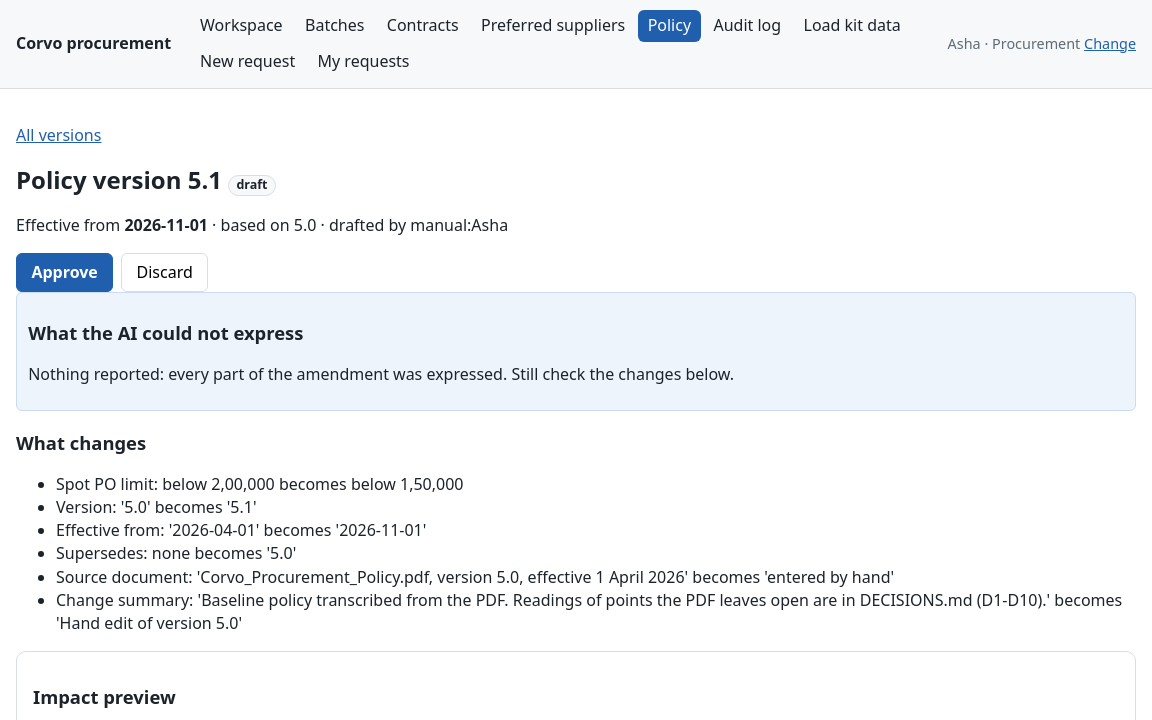
it: policy screens (B7) › approve asks for confirmation and Escape cancels it
Click the button "Approve": (65, 273) top-left (16, 253), bottom-right (113, 292)
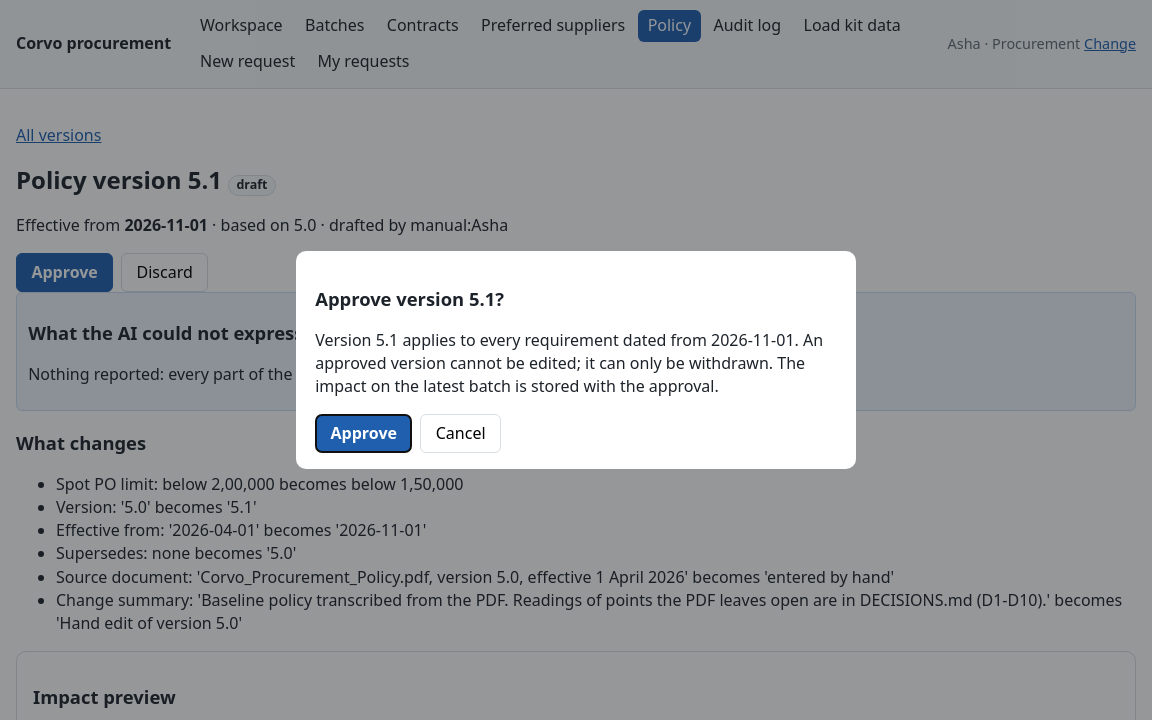
Press Escape
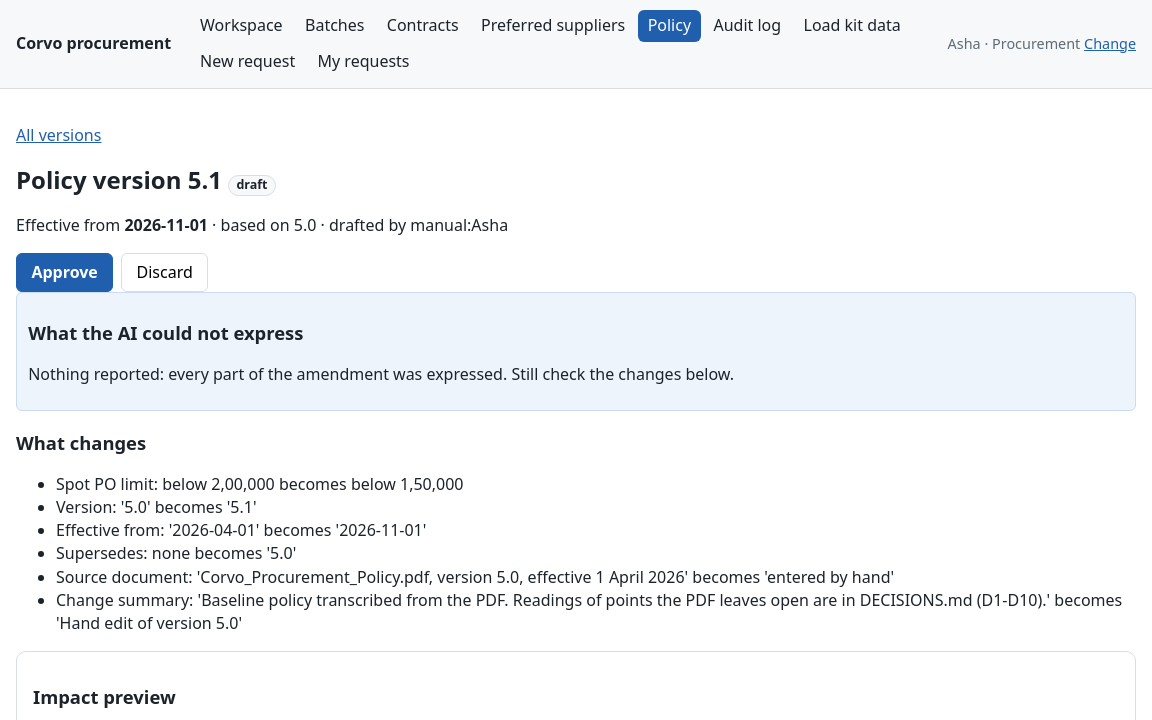
Expected: the dialog is gone
